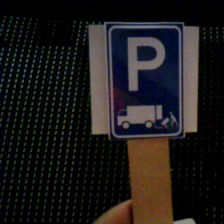load: (93, 16, 195, 143)
